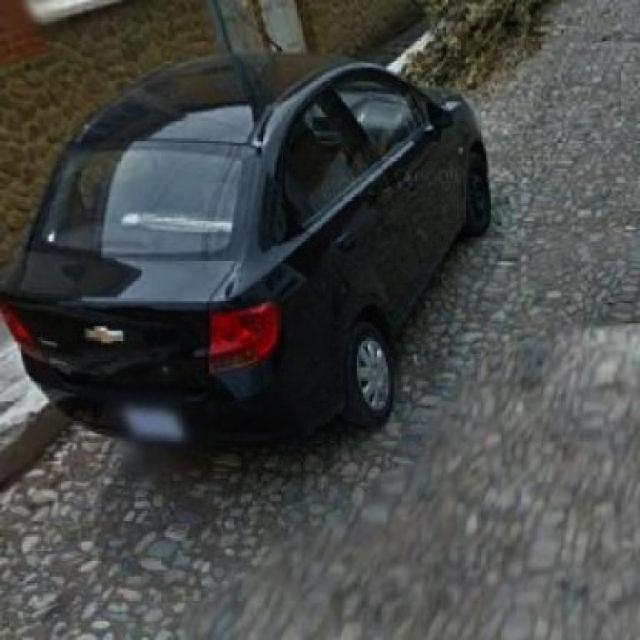car: (10, 59, 495, 459)
